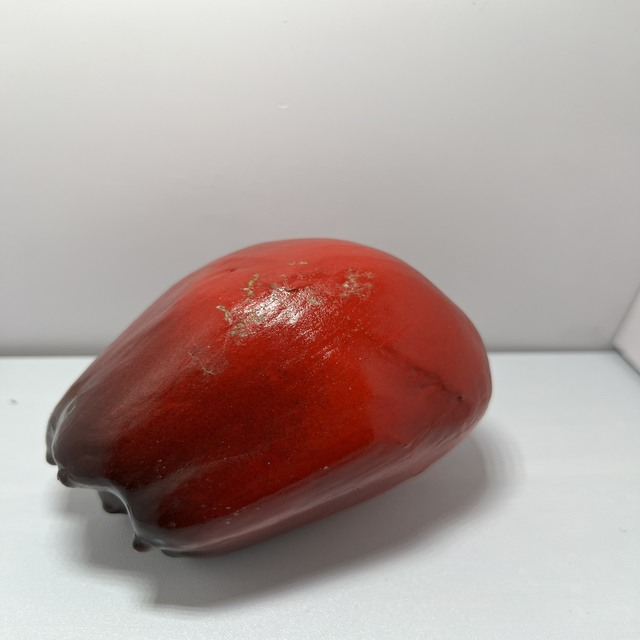Tao: (0, 144, 535, 640)
